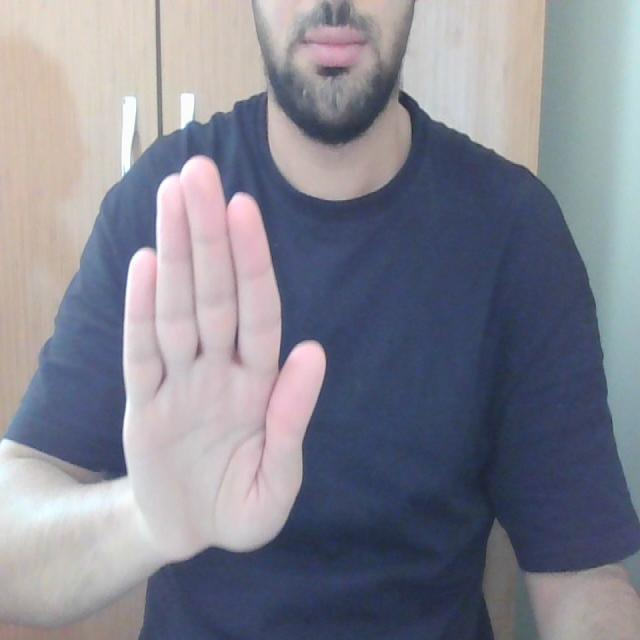Dur: (118, 159, 322, 561)
